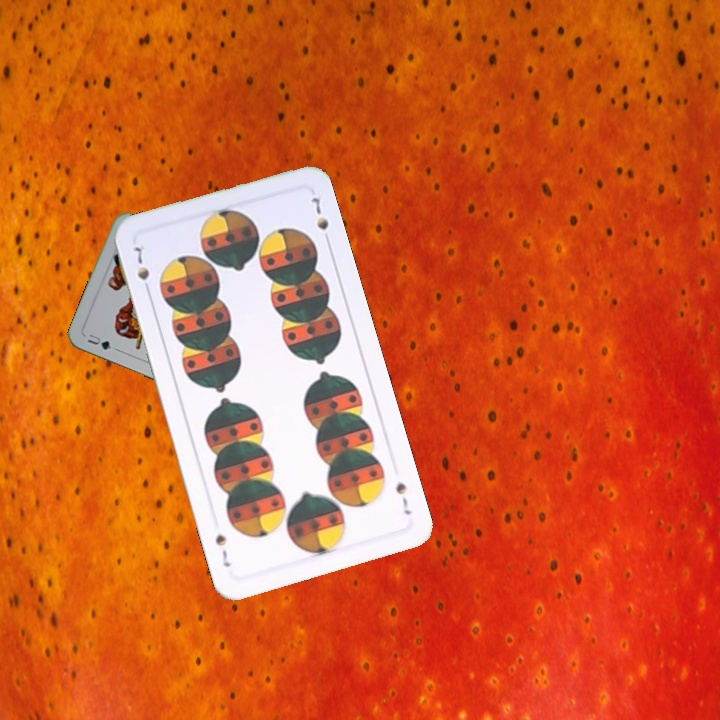GU: (83, 330, 114, 352)
S7: (130, 240, 153, 297), (391, 478, 414, 518)
